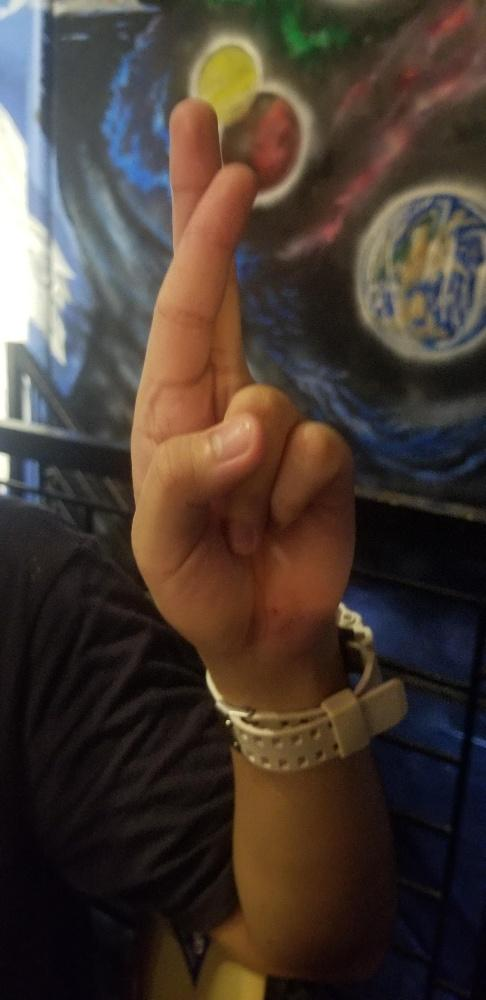r: (127, 93, 357, 645)
